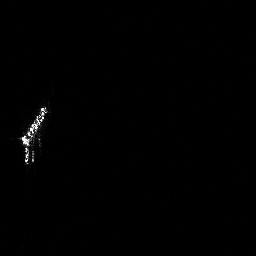ship: (15, 101, 50, 168)
